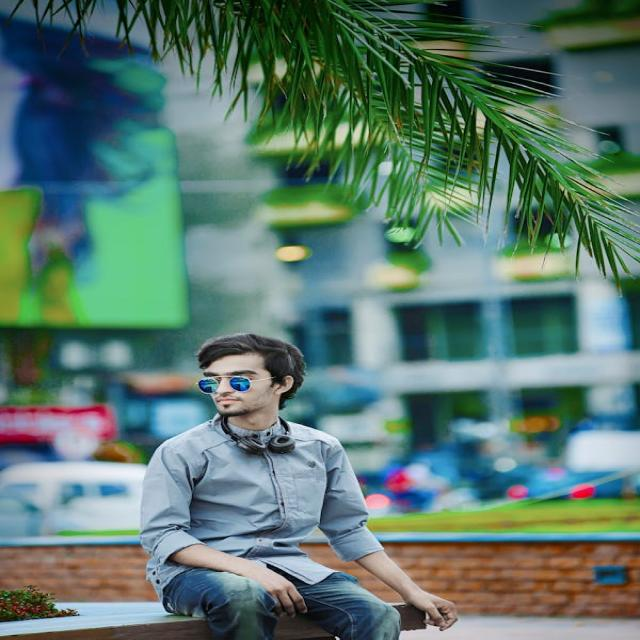Real human 2: (120, 314, 468, 640)
